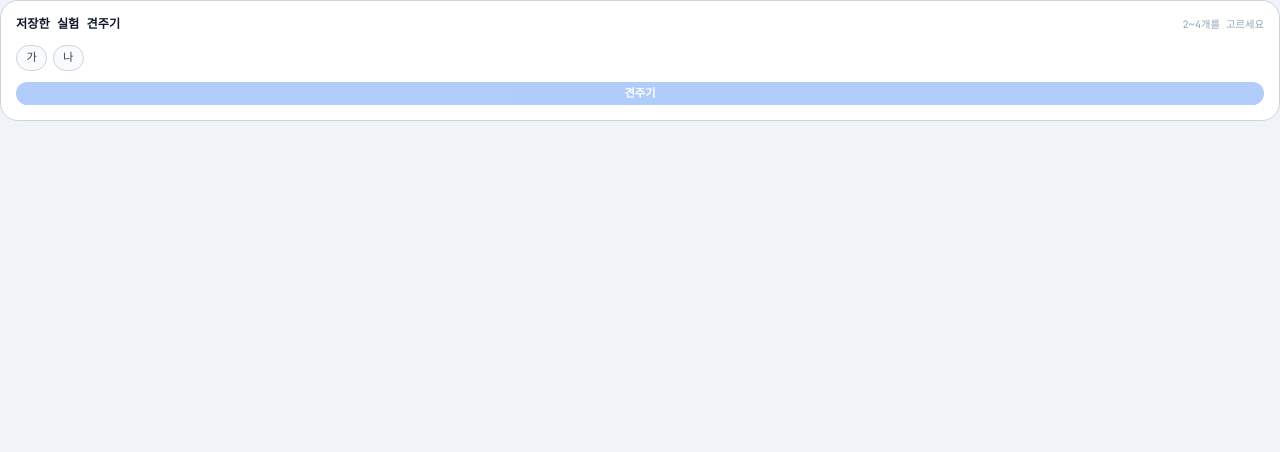
it: 실험 견주기 › 하나가 실패해도 나머지는 보여 주고, 실패한 칸에 이유를 적는다
Click the button "가" at (32, 58), box [16, 45, 47, 70]
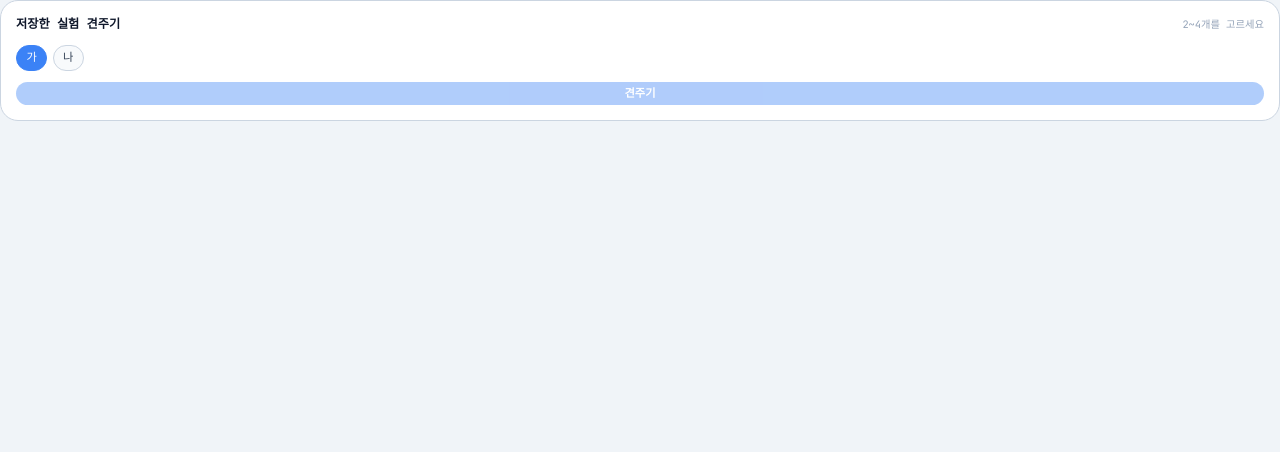
Click the button "나" at (68, 58), box [53, 45, 84, 70]
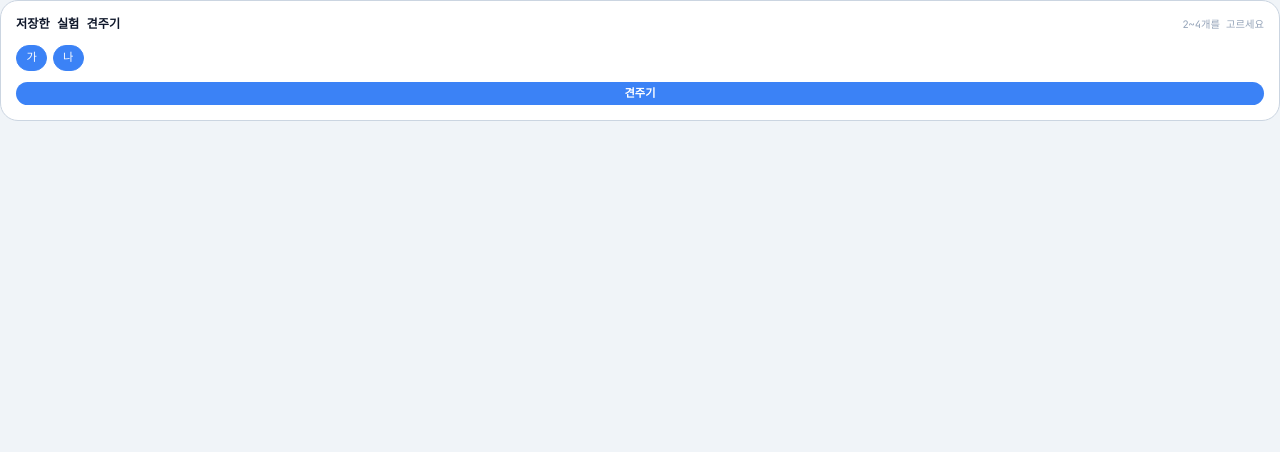
Click the button "견주기" at (640, 94), box [16, 82, 1264, 105]
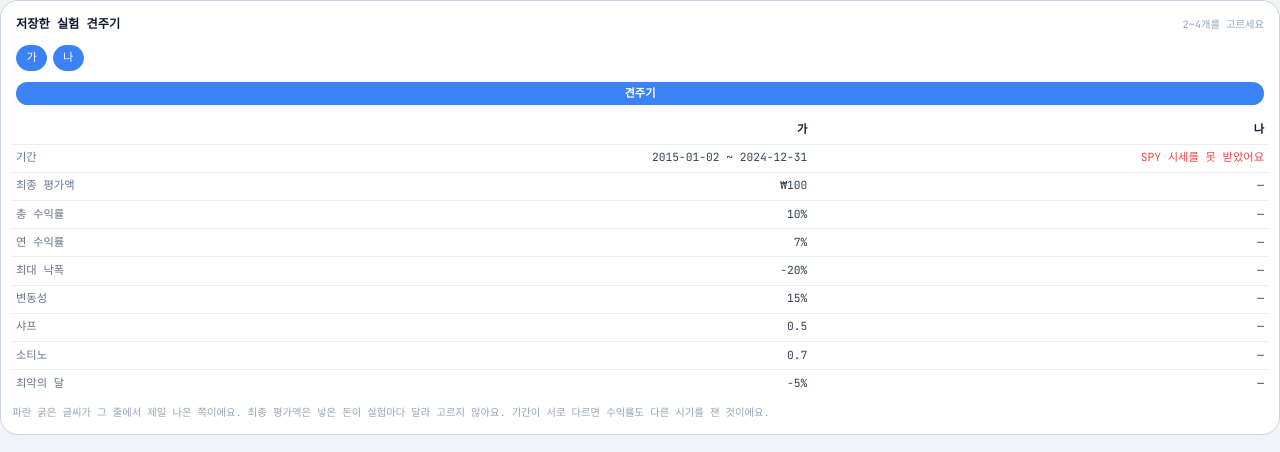
Expected: the text "SPY 시세를 못 받았어요" is shown, [1141, 150, 1264, 164]
Expected: the text "7%" is shown, [243, 229, 811, 257]
